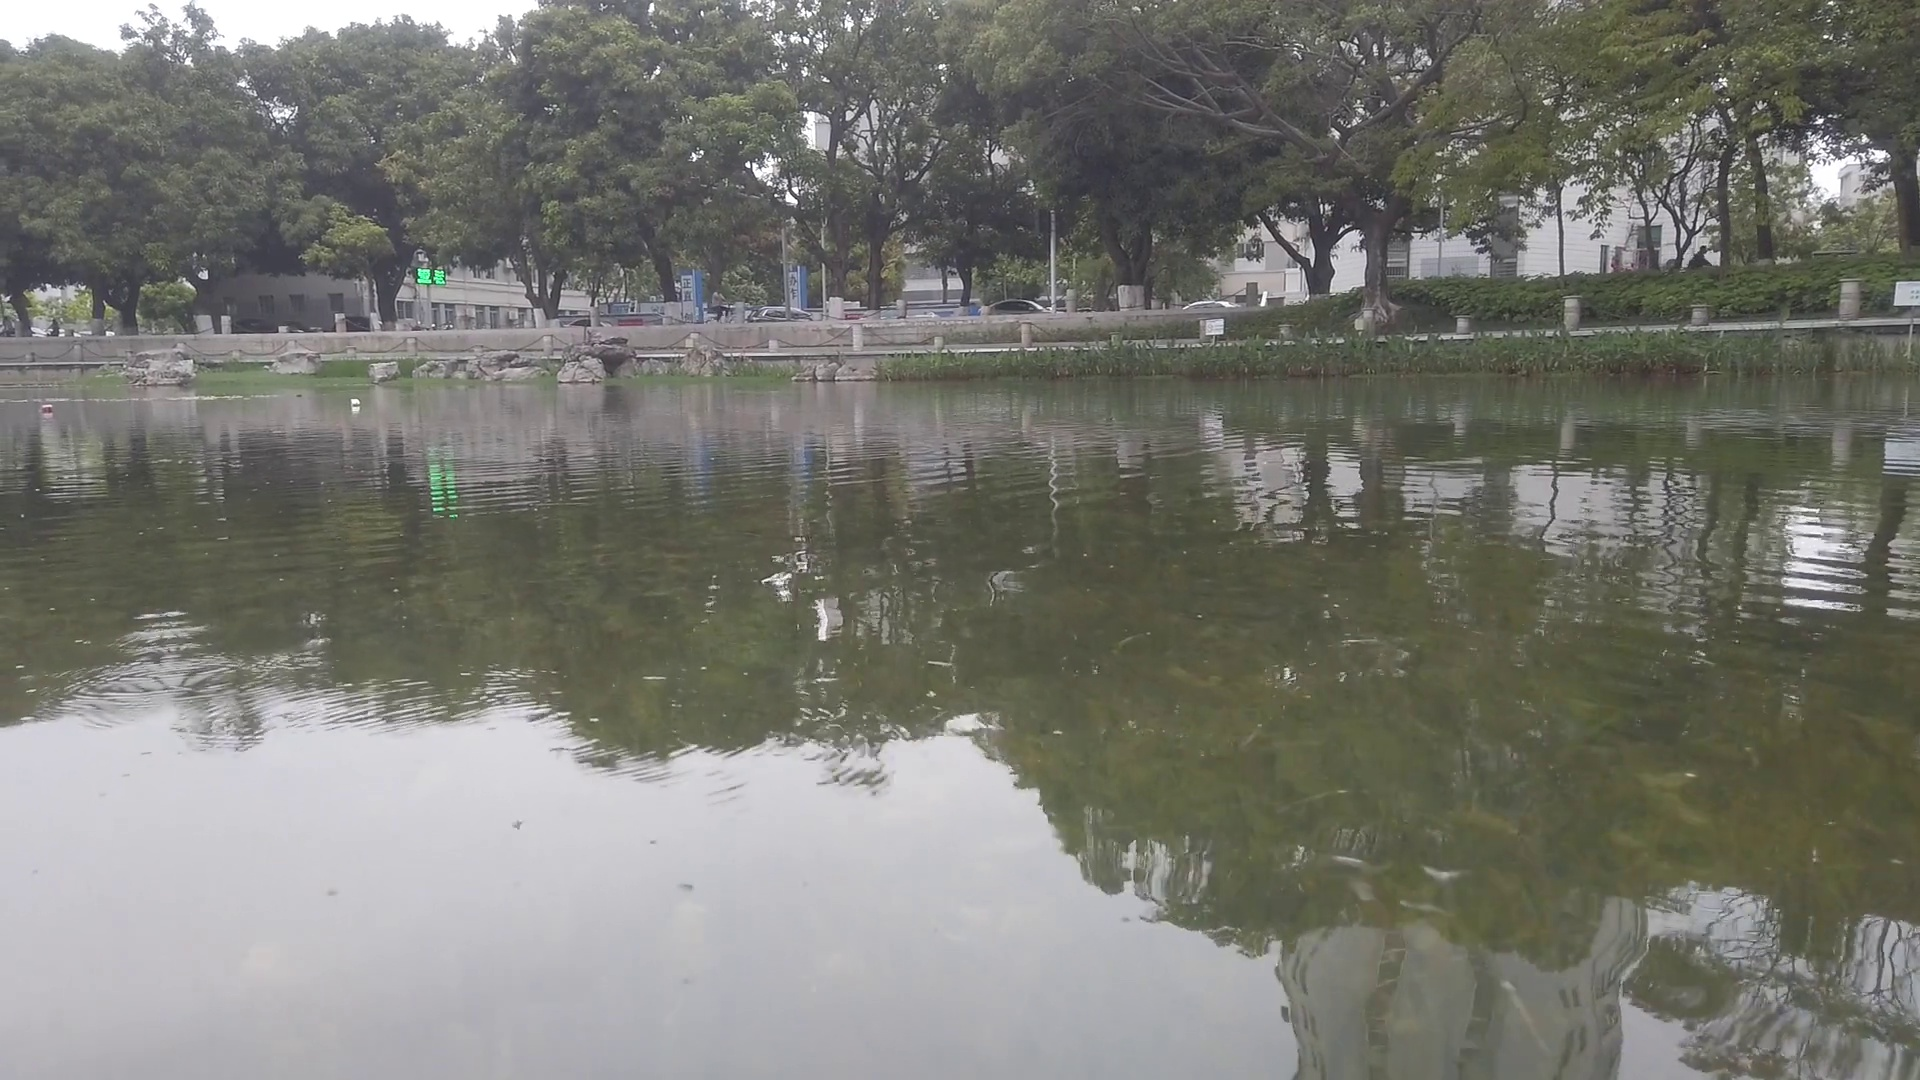bottle: (44, 405, 54, 414)
carton: (349, 398, 360, 407)
